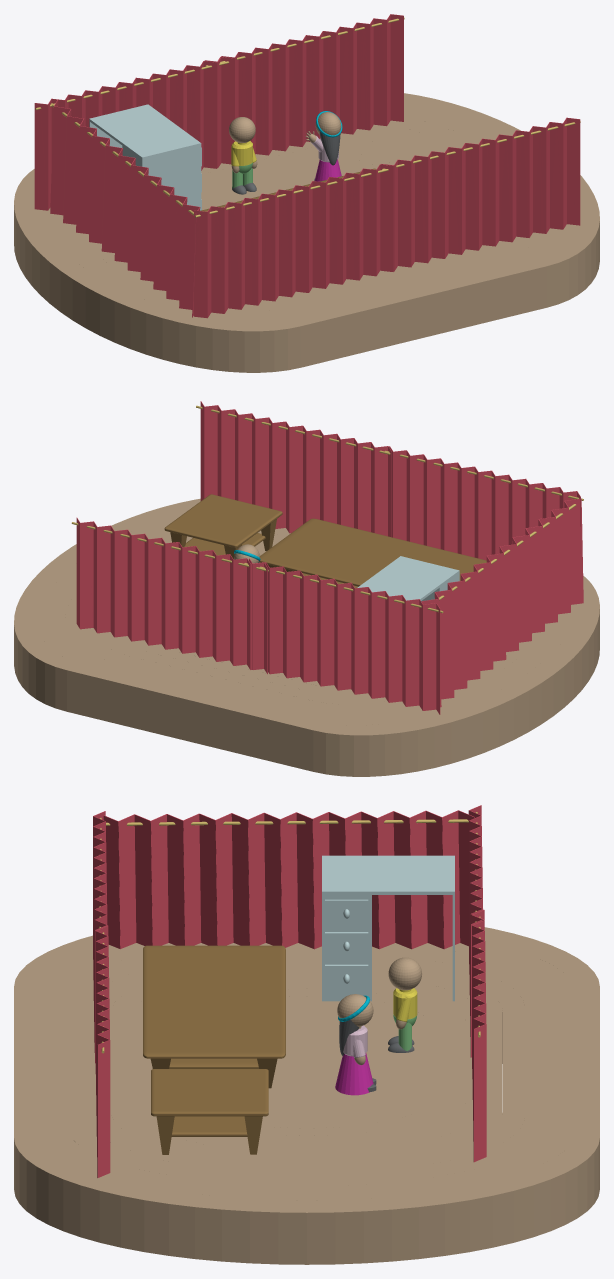
The model's file is clara2.gltf.
3 views of the same model, one above another, from view 1: azimuth 30°, elevation 25°; view 2: azimuth 150°, elevation 25°; view 3: azimuth 270°, elevation 25° (orthographic). The views are drawn at different scales.
Visible parts, largest first — view 1: Mesh_Mesh_head_geo.001_lambert2SG.001; view 2: Mesh_Mesh_head_geo.001_lambert2SG.001; view 3: Mesh_Mesh_head_geo.001_lambert2SG.001.
Part boxes in pixels (<box>): Mesh_Mesh_head_geo.001_lambert2SG.001: <box>14,14,599,372</box>; Mesh_Mesh_head_geo.001_lambert2SG.001: <box>14,401,599,776</box>; Mesh_Mesh_head_geo.001_lambert2SG.001: <box>14,805,599,1264</box>.
Size of the model in its own units: 236 by 68.01 by 194.
